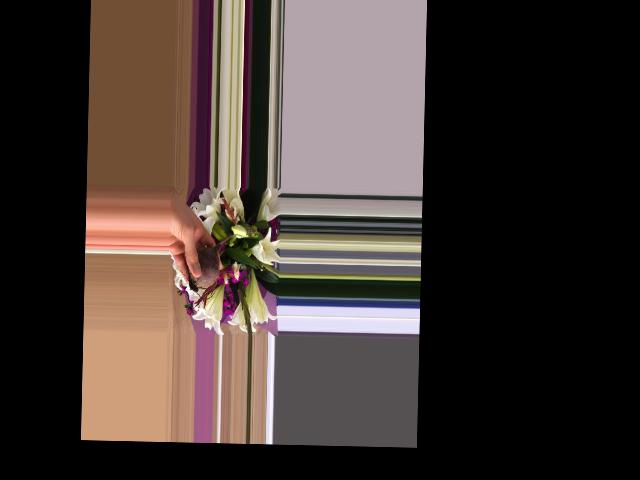beet: (187, 233, 242, 300)
